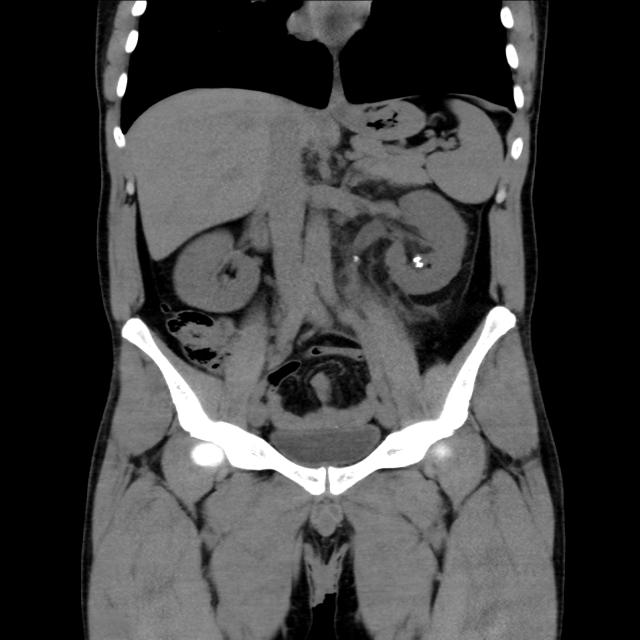kidneystone: (412, 256, 424, 267)
